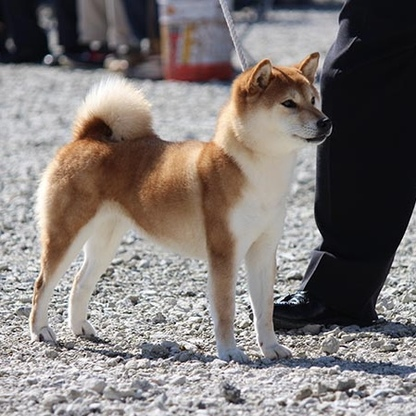shiba: (22, 48, 338, 368)
